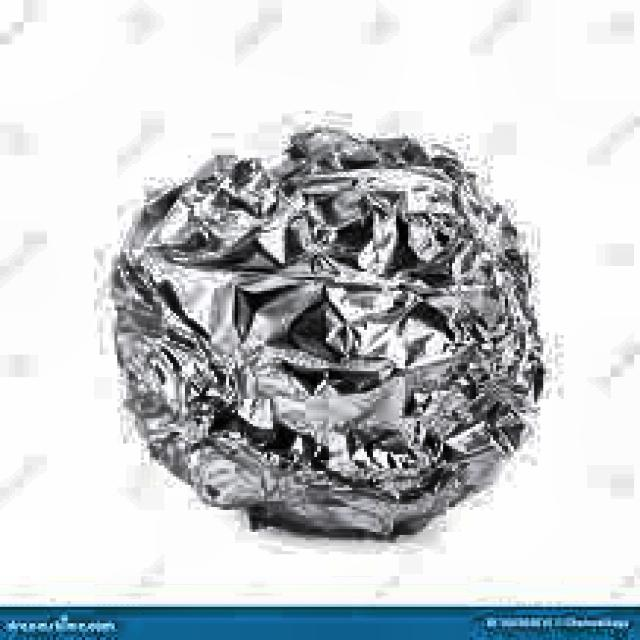Foil: (93, 107, 570, 558)
